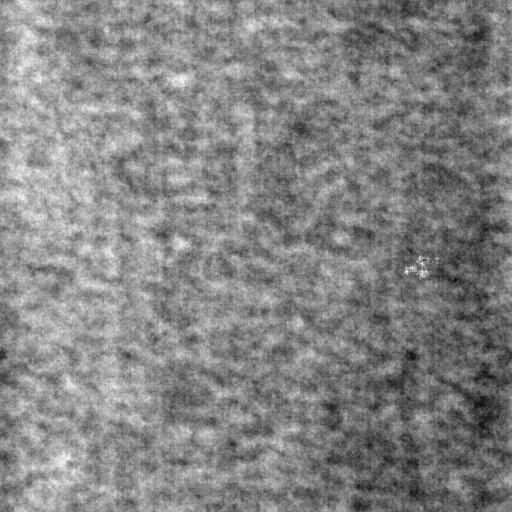DefectTypeA: (402, 253, 442, 281)
